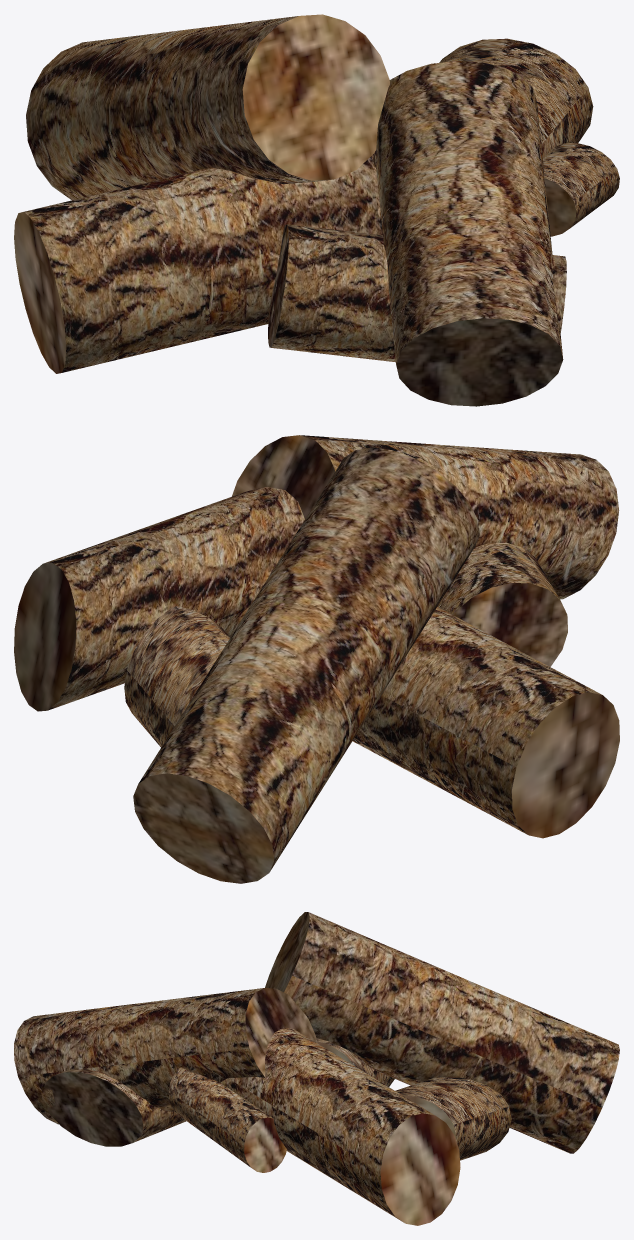
Rendered from Fogata.obj.
3 renders of one model, top to bottom at view 1: azimuth 30°, elevation 25°; view 2: azimuth 150°, elevation 25°; view 3: azimuth 270°, elevation 25°, orthographic. The views are drawn at different scales.
Parts seen in each view (by area): view 1: Fogata:Fogata:pCylinder1; view 2: Fogata:Fogata:pCylinder1; view 3: Fogata:Fogata:pCylinder1.
Part boxes in pixels (x1,y1,x2,y2): Fogata:Fogata:pCylinder1: [14, 14, 619, 406]; Fogata:Fogata:pCylinder1: [14, 435, 619, 883]; Fogata:Fogata:pCylinder1: [14, 912, 619, 1225].
Size of the model in its own units: 2.31 by 1.24 by 2.91.
Materials: 4 (4 with a texture image).
